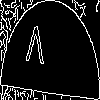V: (25, 25, 45, 74)
